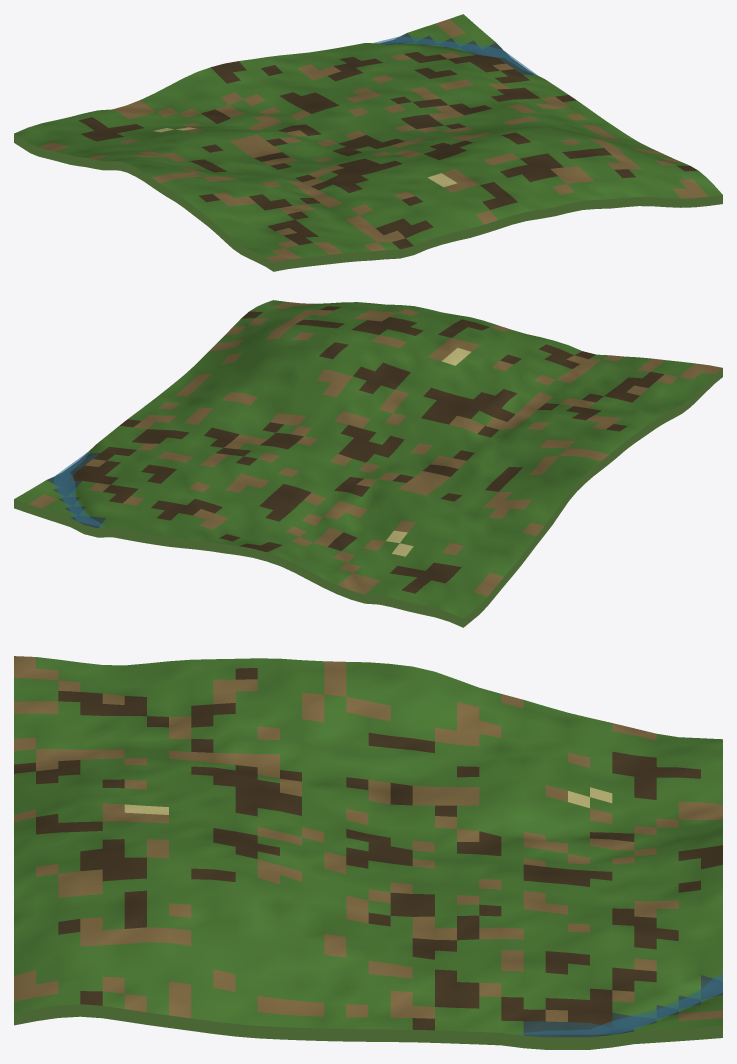
File: chunk_1_5_lod1.glb
3 renders of one model, top to bottom at view 1: azimuth 30°, elevation 25°; view 2: azimuth 150°, elevation 25°; view 3: azimuth 270°, elevation 25°, orthographic. The views are drawn at different scales.
Parts seen in each view (by area): view 1: Surface_Grass, Surface_Dirt, Surface_Mud, Skirt, Surface_Water, Water; view 2: Surface_Grass, Surface_Dirt, Surface_Mud, Skirt, Surface_Water, Water, Surface_Sand; view 3: Surface_Grass, Surface_Dirt, Surface_Mud, Skirt, Surface_Water, Water, Surface_Sand.
Boxes of the visible parts, x1,y1,x2,y2 form: Surface_Grass: (14, 14, 722, 257); Surface_Dirt: (39, 19, 708, 262); Surface_Mud: (78, 52, 697, 249); Skirt: (14, 134, 722, 271); Surface_Water: (380, 33, 535, 74); Water: (373, 36, 537, 75); Surface_Grass: (14, 300, 714, 618); Surface_Dirt: (28, 302, 722, 596); Surface_Mud: (69, 306, 663, 593); Skirt: (14, 368, 722, 627); Surface_Water: (47, 453, 105, 528); Water: (54, 451, 104, 527); Surface_Sand: (386, 348, 470, 556); Surface_Grass: (14, 657, 722, 1035); Surface_Dirt: (14, 656, 722, 1021); Surface_Mud: (14, 668, 722, 1030); Skirt: (14, 1004, 722, 1049); Surface_Water: (523, 975, 722, 1037); Water: (517, 974, 722, 1034); Surface_Sand: (124, 787, 612, 814).
Bounding box in the file's own units: 256 × 38.14 × 256.
